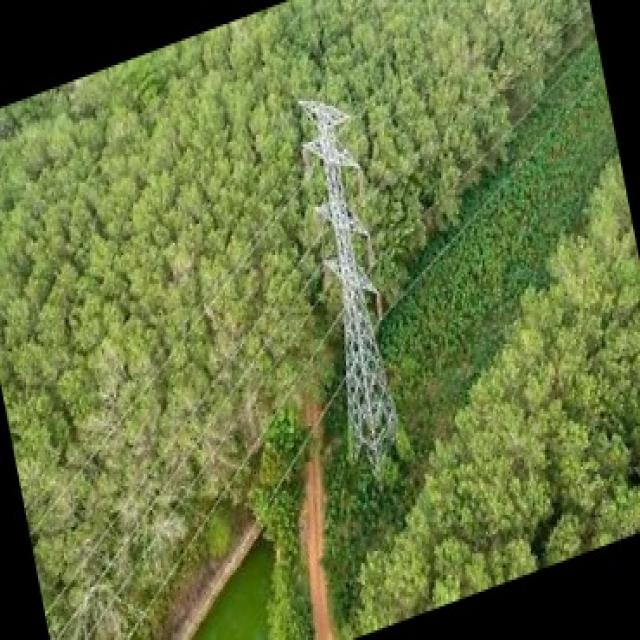utility poles: (282, 82, 433, 491)
